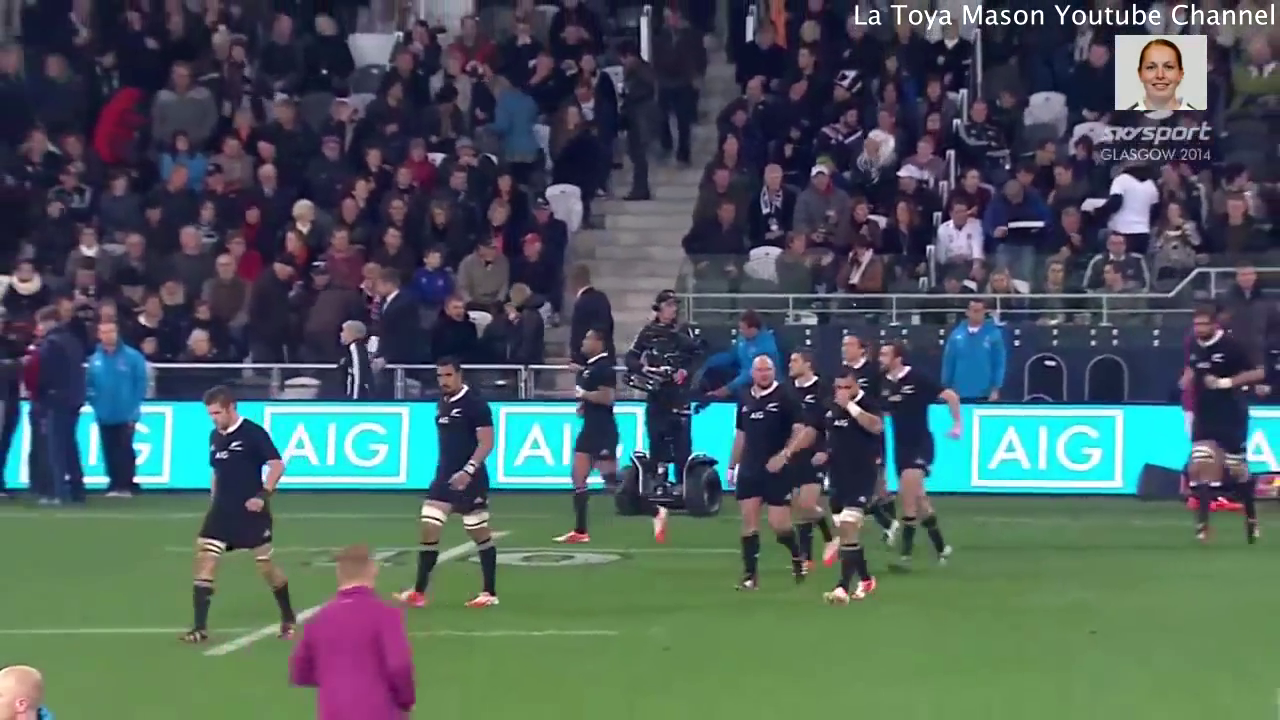player: (173, 365, 304, 653), (392, 356, 509, 616), (284, 543, 439, 720), (557, 323, 675, 543), (870, 329, 974, 576), (1175, 304, 1267, 553), (721, 351, 809, 594), (810, 364, 891, 604)
